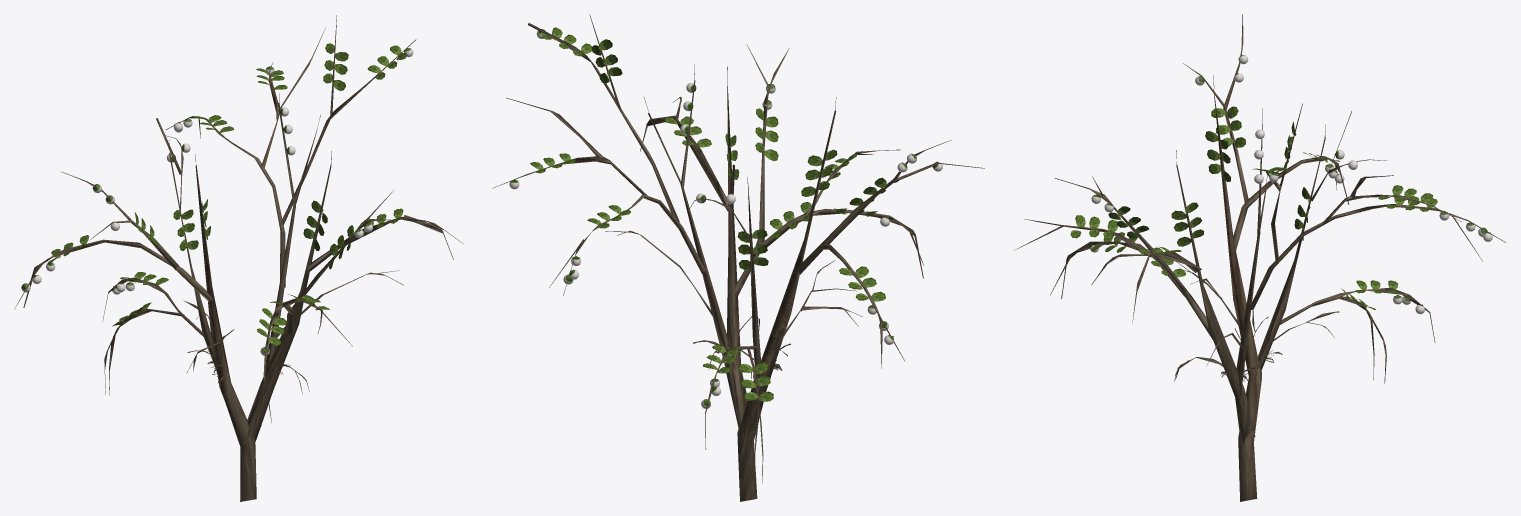
Rendered from cottonplant.glb.
3 views of the same model, side by side, from view 1: azimuth 30°, elevation 25°; view 2: azimuth 150°, elevation 25°; view 3: azimuth 270°, elevation 25° (orthographic). The views are drawn at different scales.
Visible parts, largest first — view 1: Icosphere.021; view 2: Icosphere.021; view 3: Icosphere.021.
Part boxes in pixels (x1,y1,x2,y2): Icosphere.021: (14,15,463,501); Icosphere.021: (492,14,984,501); Icosphere.021: (1014,14,1505,501).
Bounding box in the file's own units: 0.9688 × 1.08 × 1.06.
1 material, 1 textured.
